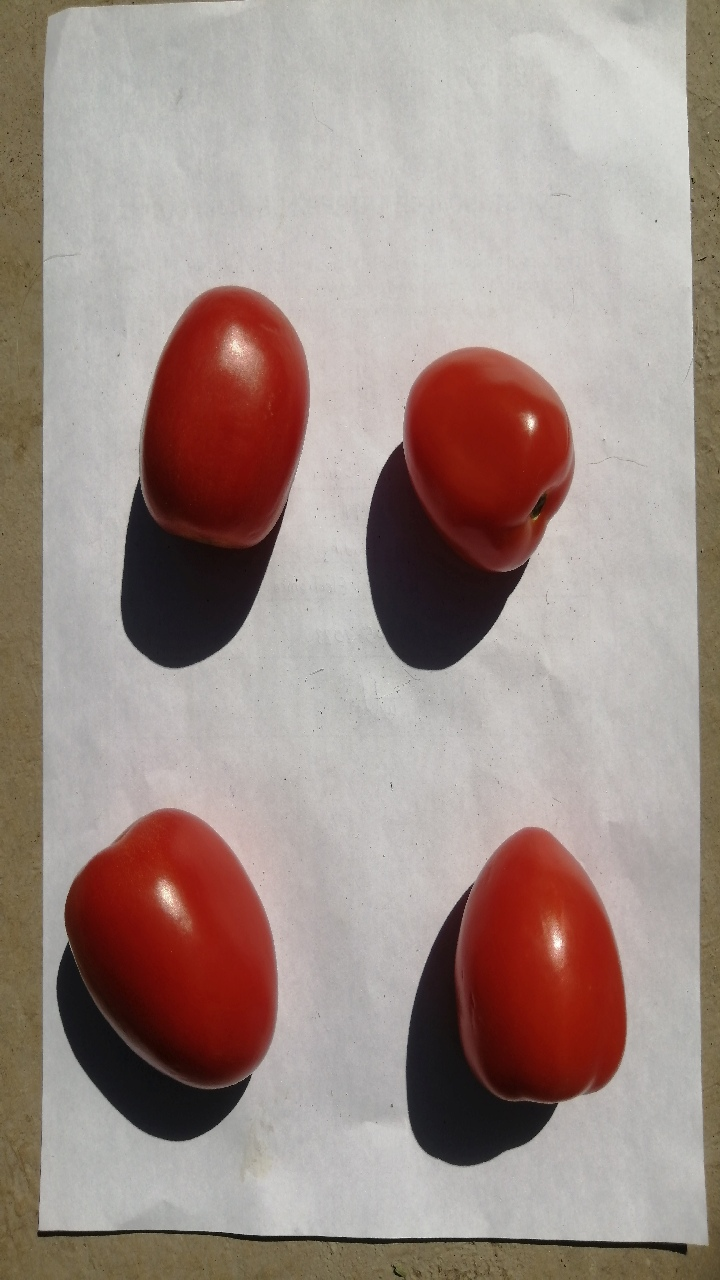tomateRojo: (51, 786, 295, 1102), (411, 809, 632, 1128), (132, 257, 317, 552), (384, 335, 583, 599)
